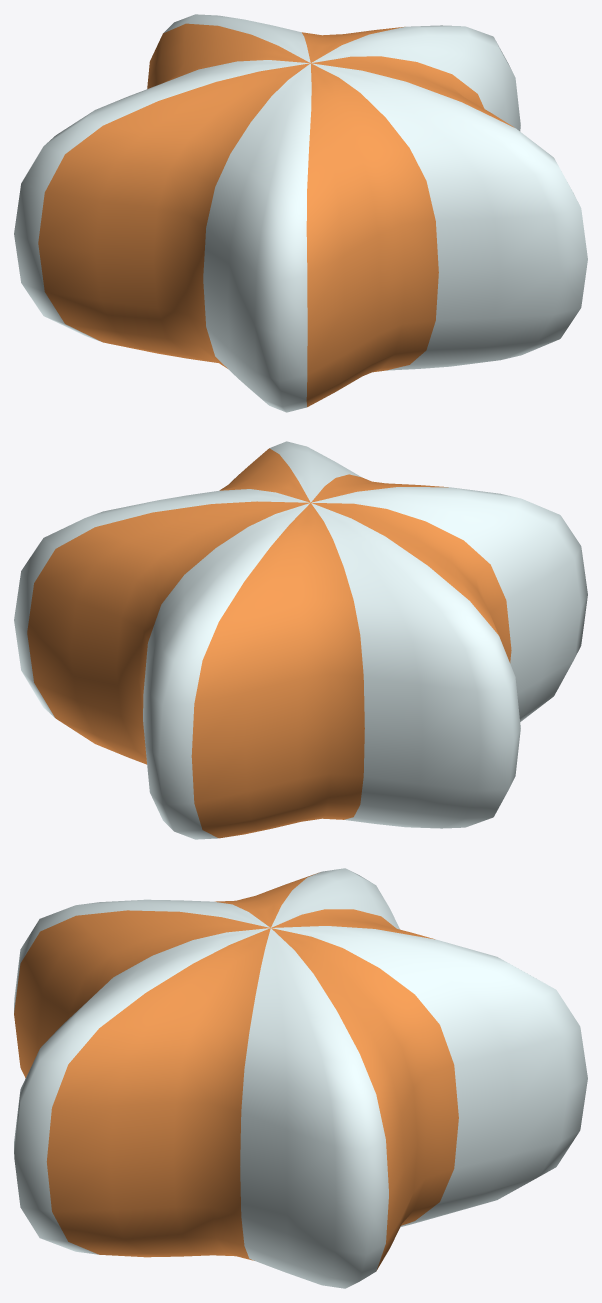
Rendered from Mintstar_05.fbx.
3 renders of one model, top to bottom at view 1: azimuth 30°, elevation 25°; view 2: azimuth 150°, elevation 25°; view 3: azimuth 270°, elevation 25°, orthographic. The views are drawn at different scales.
Visible parts, largest first — view 1: Mintstar_05_LOD0; view 2: Mintstar_05_LOD0; view 3: Mintstar_05_LOD0.
Part boxes in pixels (bbox=[...]): Mintstar_05_LOD0: bbox=[14, 14, 587, 412]; Mintstar_05_LOD0: bbox=[14, 441, 587, 839]; Mintstar_05_LOD0: bbox=[14, 868, 587, 1288].
Size of what is drawn, in the model's own units: 447 by 246 by 426.
